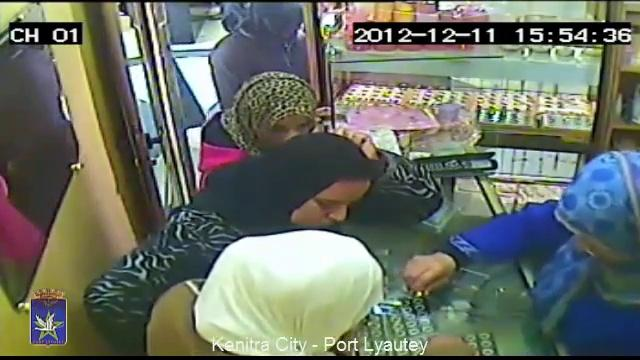Product: (409, 275, 431, 299)
Product-Picked: (397, 129, 640, 360)
Regular: (121, 209, 401, 360), (247, 109, 378, 231), (224, 0, 323, 106), (214, 67, 314, 160)
